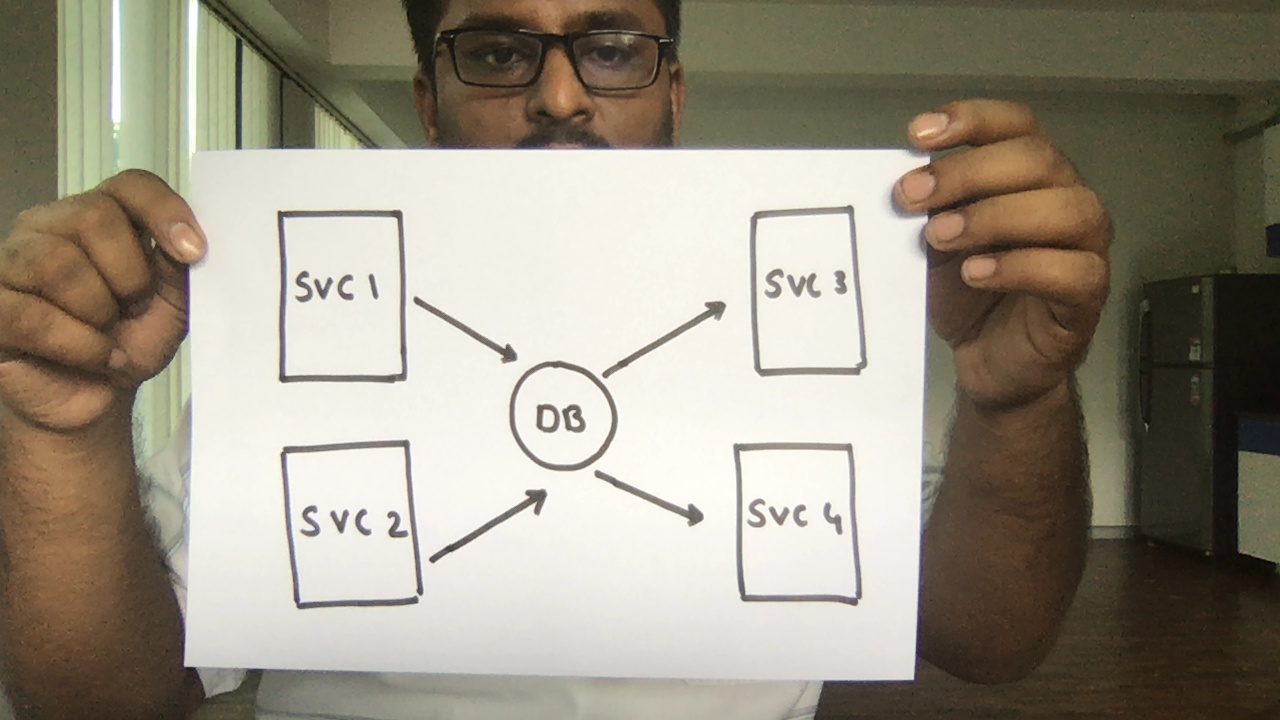arrow: (588, 292, 741, 385), (420, 484, 556, 572), (409, 290, 528, 371), (590, 465, 716, 539)
db: (500, 356, 625, 479)
ec2: (276, 434, 430, 613), (271, 206, 415, 390), (729, 435, 868, 615), (740, 203, 873, 385)
